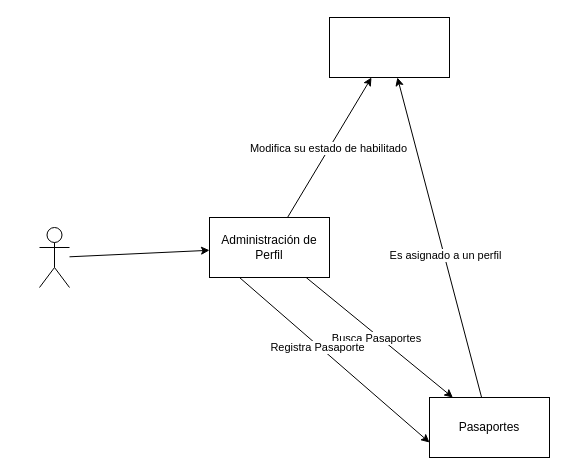
Some shapes in this 567 by 475 pixel diagram are drawn without their labels. The centre of each missing label's shape, as x and y in pixels:
Administrador: pixel 54 257
Perfil: pixel 389 47
